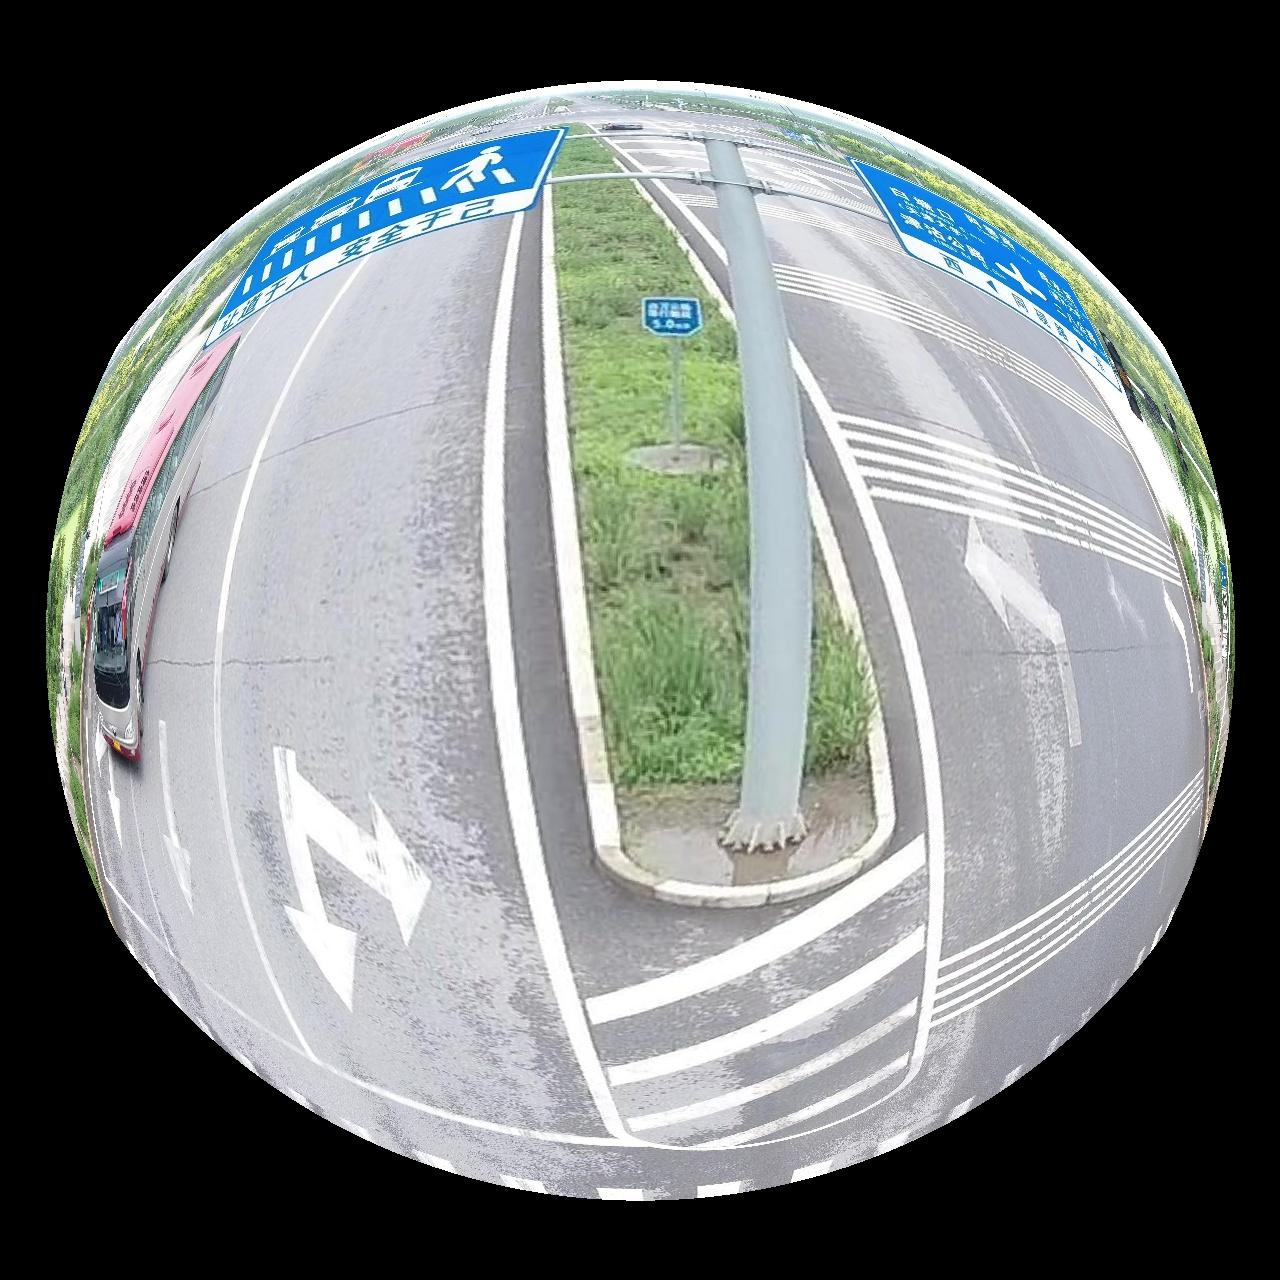cars: (88, 331, 238, 761)
